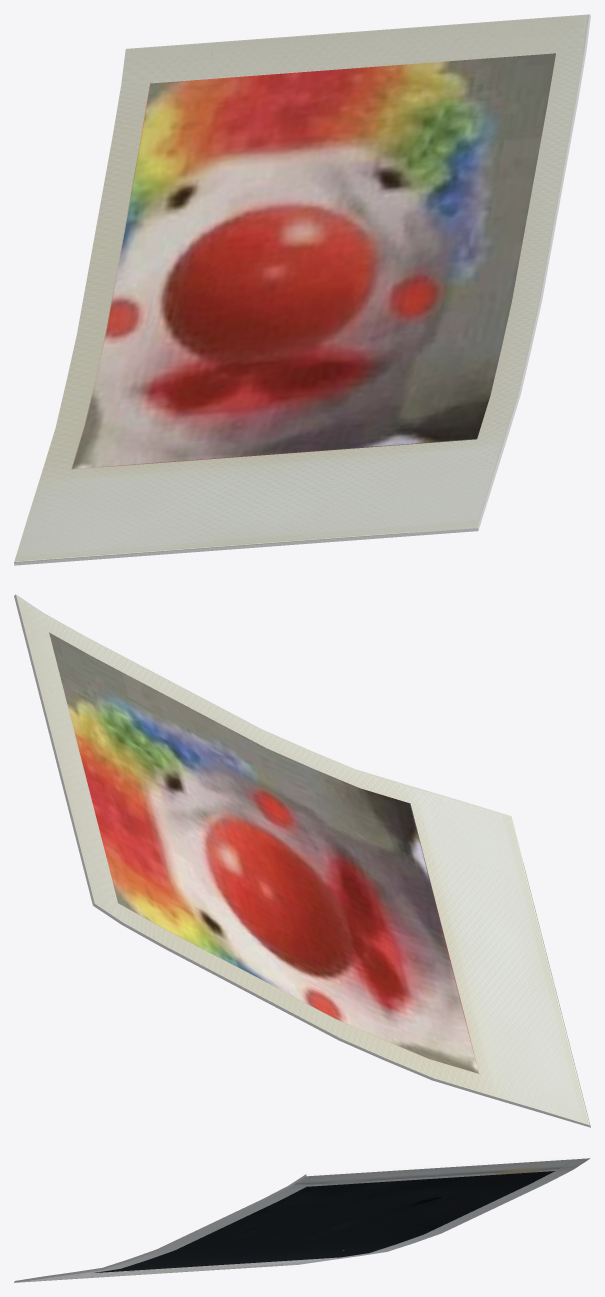
The model's file is polaroidPachacho.glb.
3 views of the same model, one above another, from view 1: azimuth 30°, elevation 25°; view 2: azimuth 150°, elevation 25°; view 3: azimuth 270°, elevation 25° (orthographic). The views are drawn at different scales.
Parts seen in each view (by area): view 1: Object_3, Object_5; view 2: Object_3, Object_5; view 3: Object_4, Object_5.
Boxes of the visible parts, bbox=[...] form: Object_3: bbox=[71, 53, 555, 469]; Object_5: bbox=[14, 14, 590, 565]; Object_3: bbox=[49, 632, 479, 1074]; Object_5: bbox=[14, 594, 590, 1127]; Object_4: bbox=[95, 1171, 554, 1272]; Object_5: bbox=[14, 1156, 590, 1282].
Bounding box in the file's own units: 27.2 × 18.12 × 31.5.
3 materials, 3 textured.
